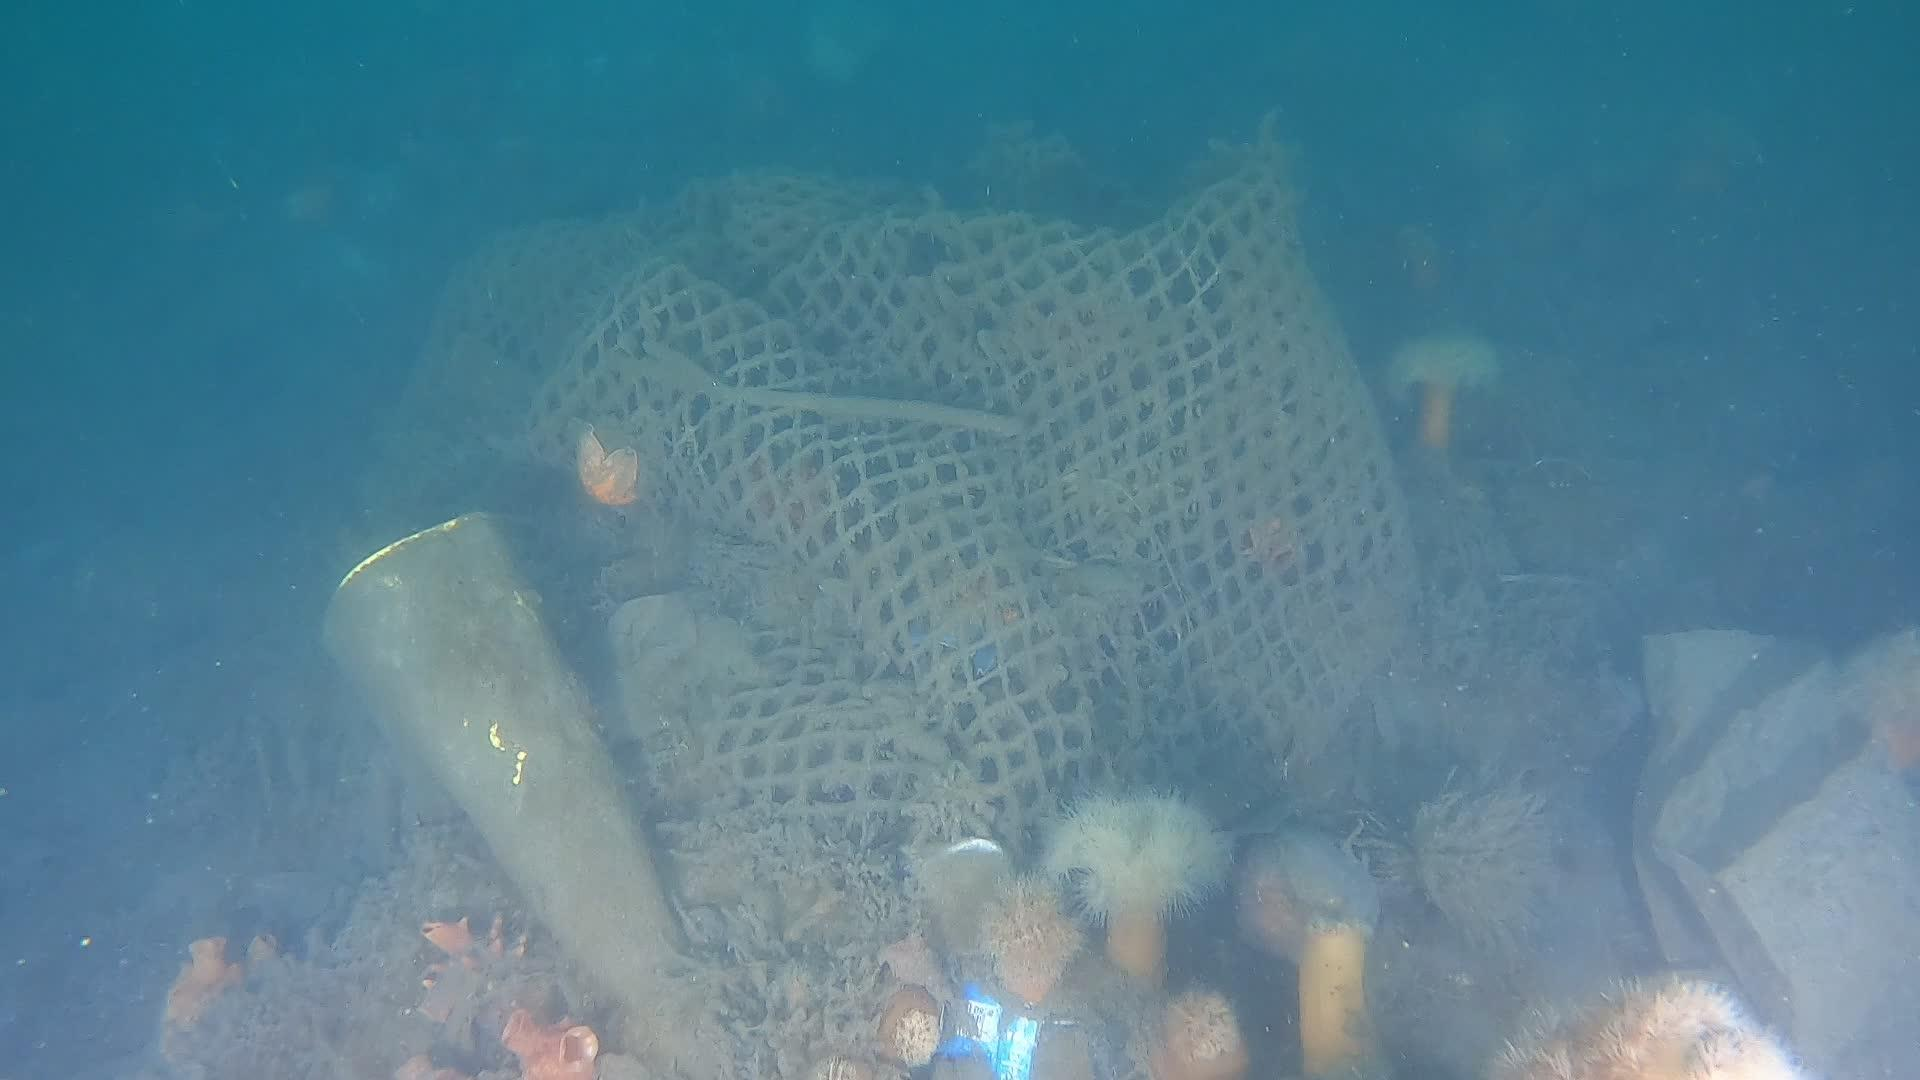fish net: (355, 96, 1429, 881)
